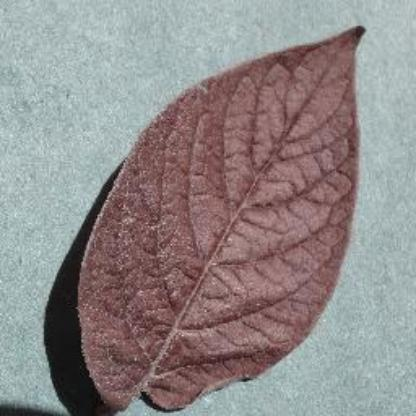Healthy-plant: (51, 18, 375, 412)
